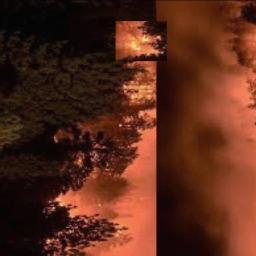Heavy smoke: (160, 4, 254, 251)
Medium fire: (50, 65, 142, 254)
Small fire: (118, 21, 166, 60)
